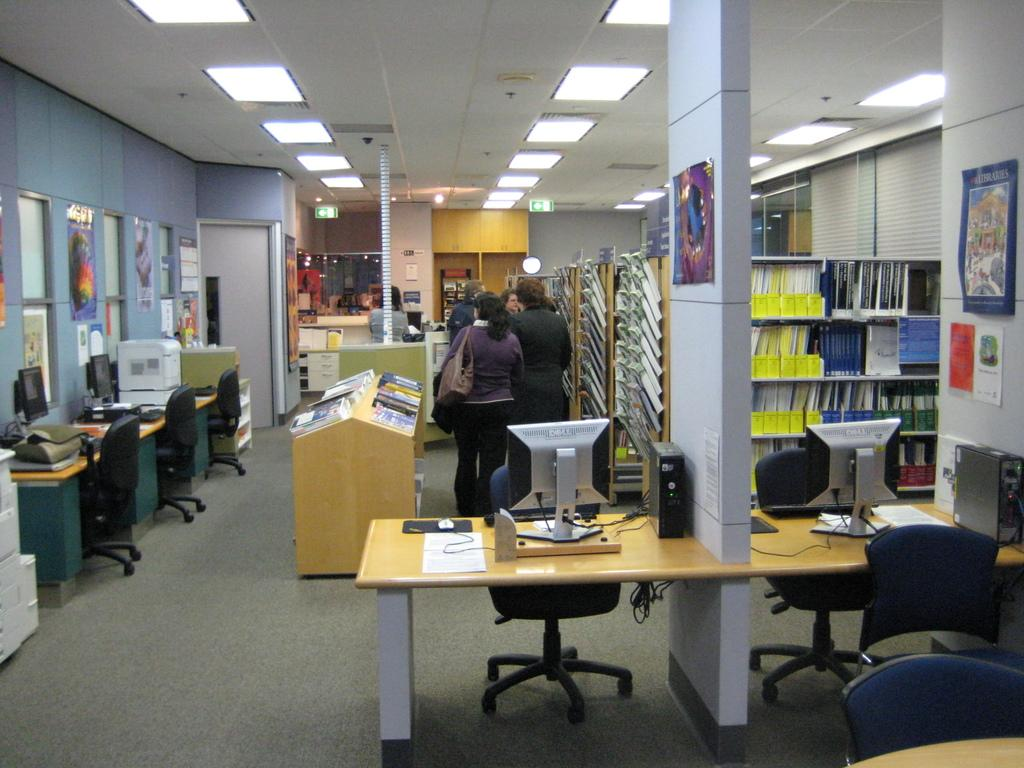Chair: (752, 444, 899, 702), (486, 468, 629, 722), (863, 531, 1020, 669), (833, 661, 1018, 767), (79, 410, 148, 583), (157, 387, 207, 526), (206, 369, 246, 472)
